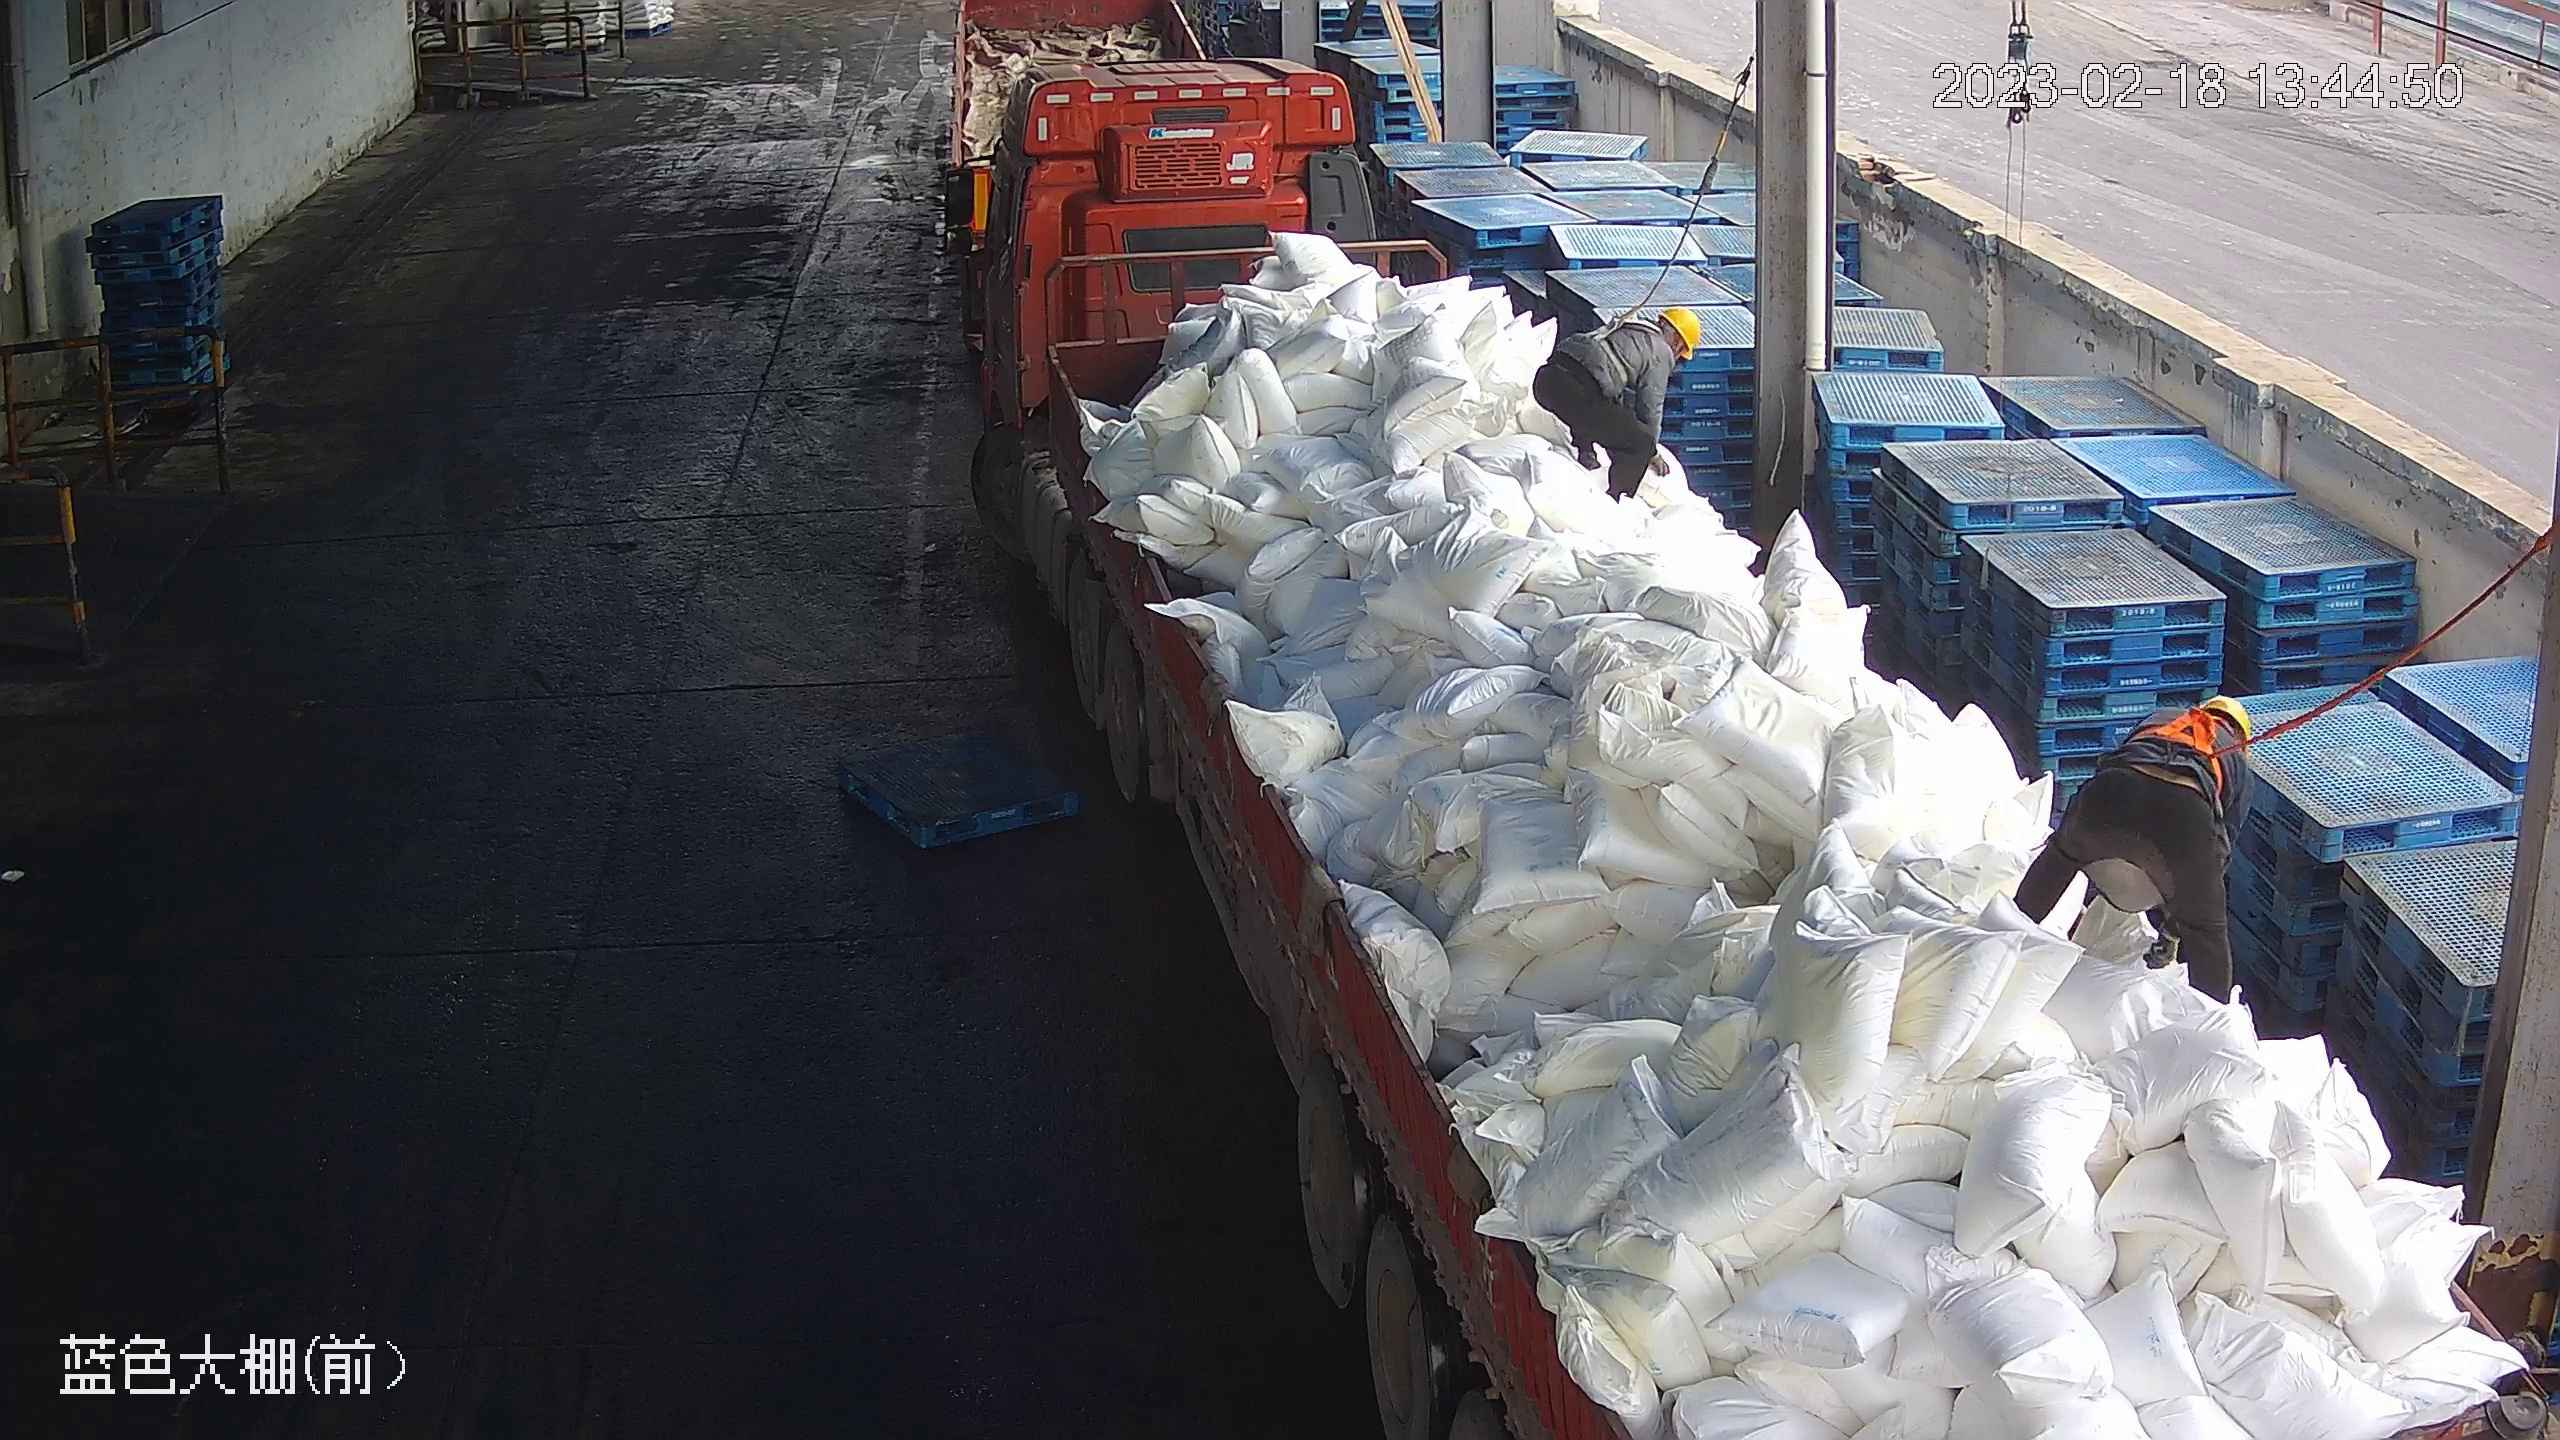belt: (2138, 704, 2281, 803), (1579, 305, 1665, 389)
head: (2132, 691, 2259, 796), (1615, 308, 1705, 378)
helmet: (2197, 692, 2254, 752), (1657, 306, 1701, 363)
people: (2012, 692, 2256, 1006), (1532, 305, 1702, 502)
truck: (971, 53, 2560, 1440)
